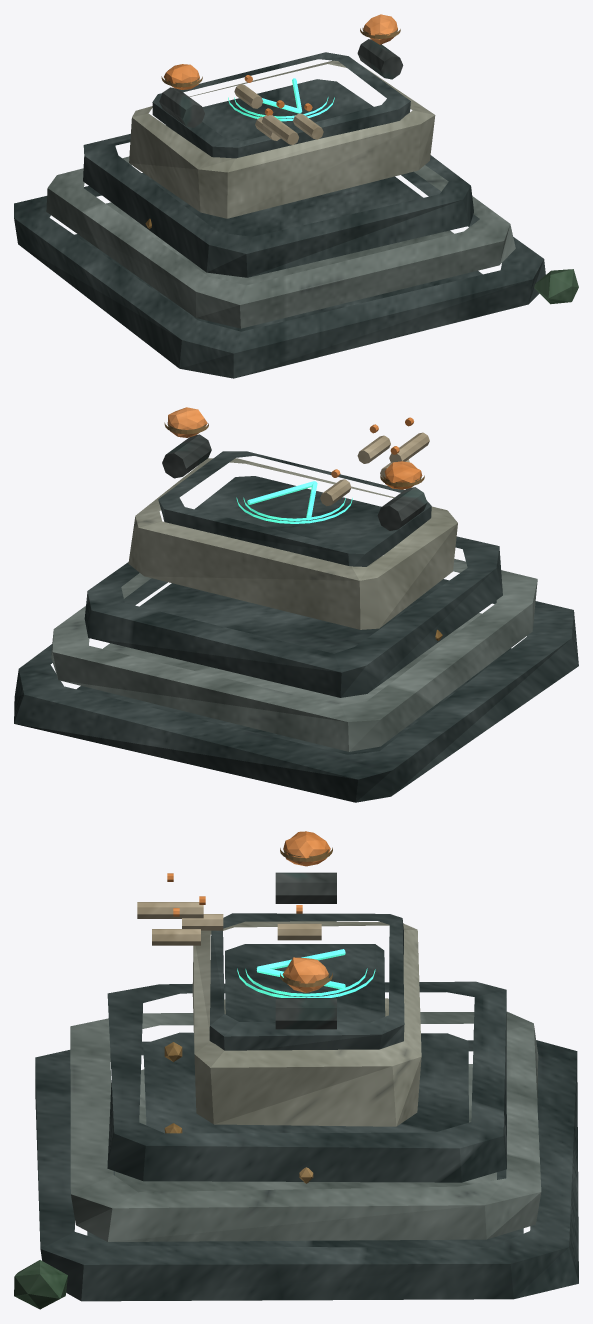
File: 0457_altar_07.glb
3 views of the same model, one above another, from view 1: azimuth 30°, elevation 25°; view 2: azimuth 150°, elevation 25°; view 3: azimuth 270°, elevation 25° (orthographic). The views are drawn at different scales.
Parts seen in each view (by area): view 1: stone_dark, stone, stone_light, iron, bone, amber, moss, glow; view 2: stone_dark, stone, stone_light, iron, amber, bone, glow, brass; view 3: stone_dark, stone, stone_light, iron, bone, amber, moss, glow, brass.
Part boxes in pixels (x1,y1,x2,y2): stone_dark: [14, 52, 545, 378]; stone: [46, 156, 515, 328]; stone_light: [129, 60, 435, 218]; iron: [159, 39, 403, 127]; bone: [234, 84, 323, 144]; amber: [164, 14, 397, 115]; moss: [534, 269, 578, 304]; glow: [228, 78, 334, 121]; stone_dark: [14, 451, 578, 802]; stone: [51, 552, 537, 751]; stone_light: [128, 458, 457, 629]; iron: [162, 434, 427, 530]; amber: [168, 407, 422, 489]; bone: [320, 432, 429, 506]; glow: [236, 481, 352, 523]; brass: [164, 422, 442, 640]; stone_dark: [35, 913, 578, 1301]; stone: [70, 1011, 541, 1241]; stone_light: [192, 921, 421, 1126]; iron: [275, 872, 336, 1029]; bone: [137, 902, 321, 945]; amber: [167, 831, 330, 992]; moss: [14, 1260, 67, 1309]; glow: [237, 949, 375, 997]; brass: [164, 847, 332, 1183].
Size of the model in its own units: 2.22 by 1.27 by 2.21.
Materials: 9 (9 with a texture image).
